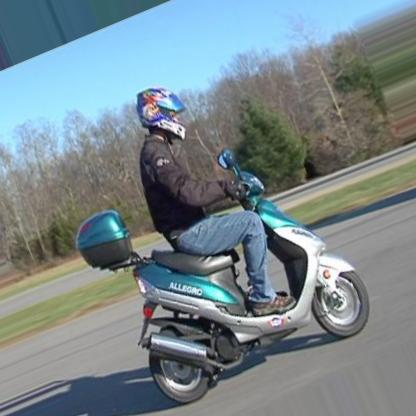with helmet: (134, 84, 188, 145)
